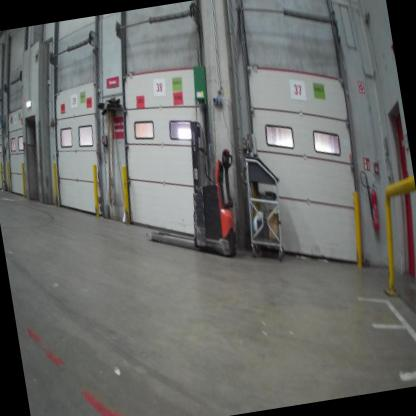pallet_truck: (127, 113, 252, 274)
